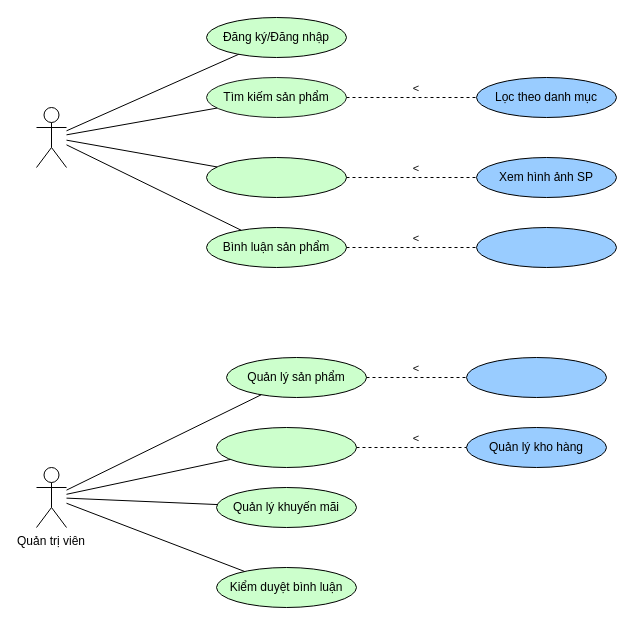
The diagram is 634 pixels wide and 625 high, and some of its shapes have lost their labels. The shapes that lost their labels are listed below. From the top down, each one's box as (x1, y1, x2, y2) in pixels, then its label:
(36, 106, 66, 168): Người dùng
(206, 156, 346, 198): Xem chi tiết sản phẩm
(476, 226, 616, 268): Đánh giá sản phẩm
(466, 356, 606, 398): Thêm/Sửa/Xóa SP
(216, 426, 356, 468): Quản lý danh mục
